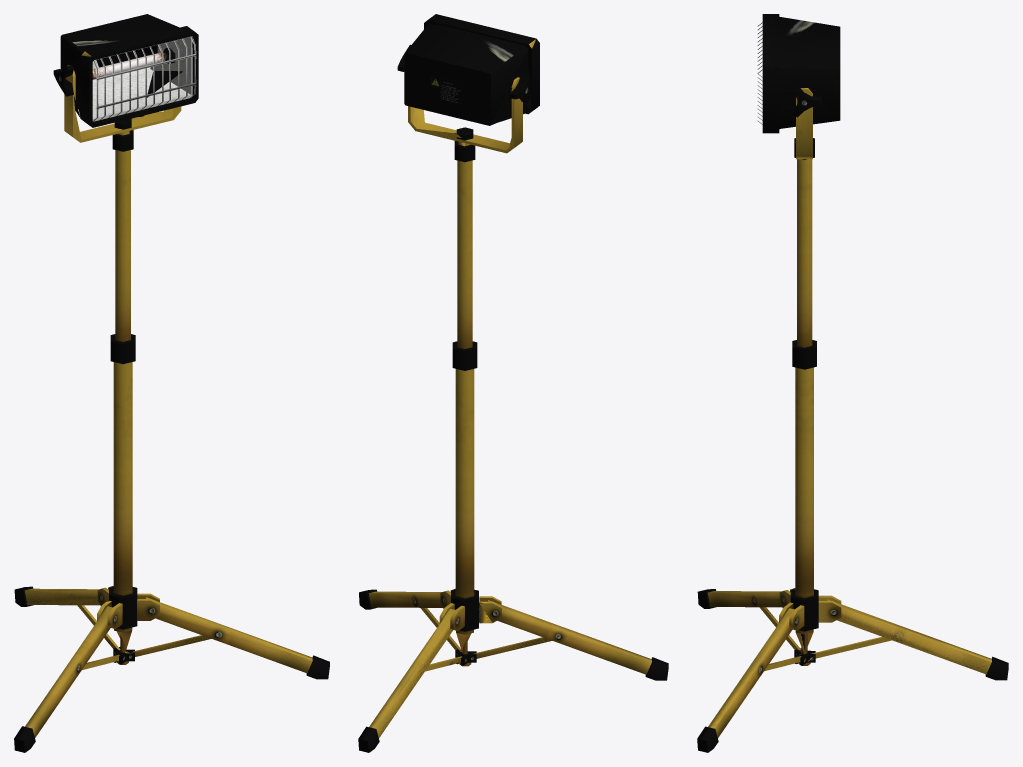
Rendered from ConstructionLight.fbx.
3 renders of one model, left to right at view 1: azimuth 30°, elevation 25°; view 2: azimuth 150°, elevation 25°; view 3: azimuth 270°, elevation 25°, orthographic.
Visible parts, largest first — view 1: ConstructionLight__Lod:0, ConstructionLight__Lod:2, ConstructionLight__Lod:3, ConstructionLight__Lod:1; view 2: ConstructionLight__Lod:0, ConstructionLight__Lod:2, ConstructionLight__Lod:3, ConstructionLight__Lod:1; view 3: ConstructionLight__Lod:2, ConstructionLight__Lod:0, ConstructionLight__Lod:1, ConstructionLight__Lod:3.
Boxes of the visible parts, box(x1,y1,x2,y2) form: ConstructionLight__Lod:0: box(14, 14, 329, 752); ConstructionLight__Lod:2: box(25, 18, 312, 698); ConstructionLight__Lod:3: box(25, 30, 285, 737); ConstructionLight__Lod:1: box(14, 26, 313, 752); ConstructionLight__Lod:0: box(358, 44, 668, 752); ConstructionLight__Lod:2: box(358, 14, 536, 752); ConstructionLight__Lod:3: box(369, 24, 651, 737); ConstructionLight__Lod:1: box(359, 14, 668, 680); ConstructionLight__Lod:2: box(698, 14, 1008, 752); ConstructionLight__Lod:0: box(697, 27, 1008, 740); ConstructionLight__Lod:1: box(697, 14, 992, 752); ConstructionLight__Lod:3: box(707, 16, 991, 729).
Size of the model in its own units: 83.14 by 163 by 72.06.
